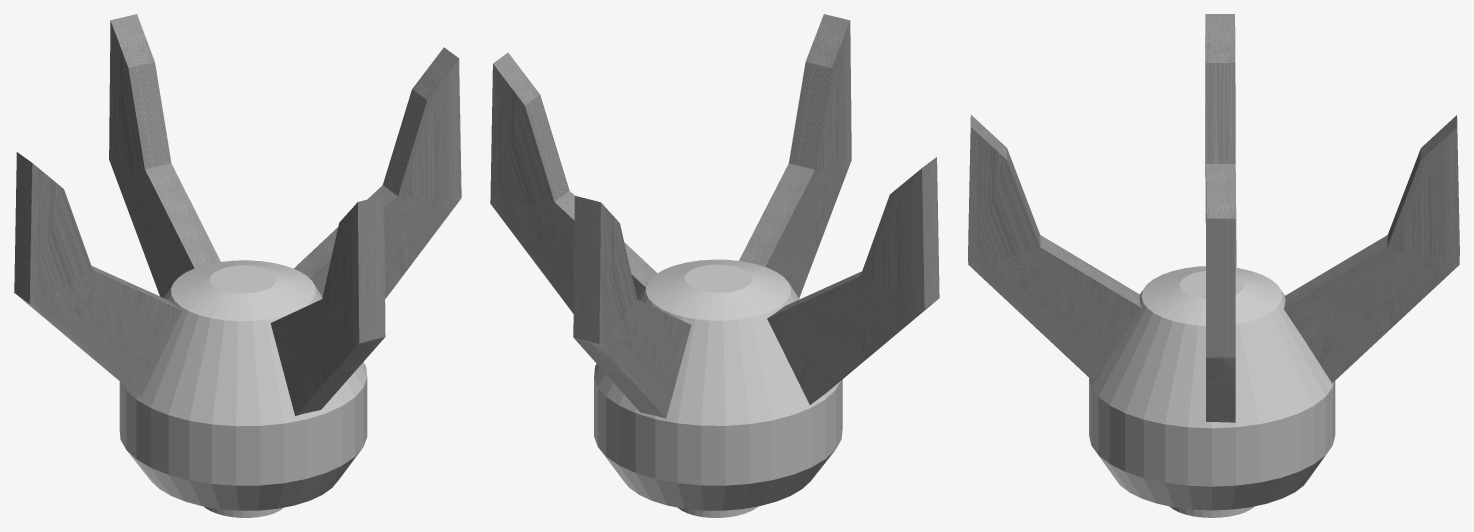
The model's file is Grappling Hook Claw.fbx.
3 views of the same model, side by side, from view 1: azimuth 30°, elevation 25°; view 2: azimuth 150°, elevation 25°; view 3: azimuth 270°, elevation 25° (orthographic). The views are drawn at different scales.
Visible parts, largest first — view 1: Centre, Claw.001, Claw.002, Claw.003, Claw; view 2: Centre, Claw.001, Claw.003, Claw.002, Claw; view 3: Centre, Claw.002, Claw.003, Claw.001, Claw.
Part boxes in pixels (x1,y1,x2,y2): Centre: (119,260,367,517); Claw.001: (14,152,181,397); Claw.002: (109,14,220,297); Claw.003: (270,195,385,415); Claw: (293,47,461,299); Centre: (594,259,842,517); Claw.001: (767,157,939,404); Claw.003: (739,14,851,298); Claw.002: (573,196,691,418); Claw: (490,52,657,313); Centre: (1089,266,1335,517); Claw.002: (1284,115,1459,383); Claw.003: (968,115,1141,381); Claw.001: (1205,14,1236,267); Claw: (1206,218,1235,422).
Size of the model in its own units: 255 by 220 by 256.
